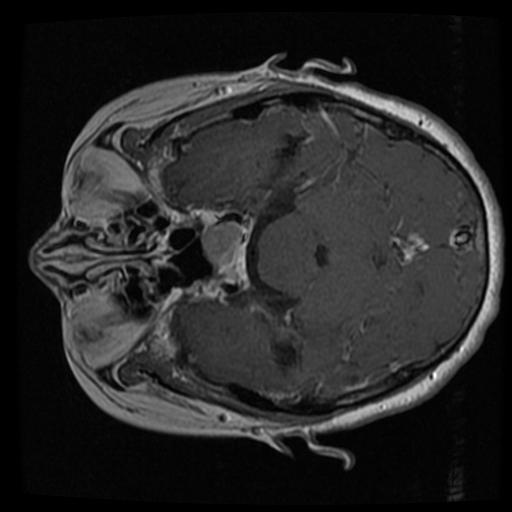pituitary tumour: (199, 218, 245, 276)
